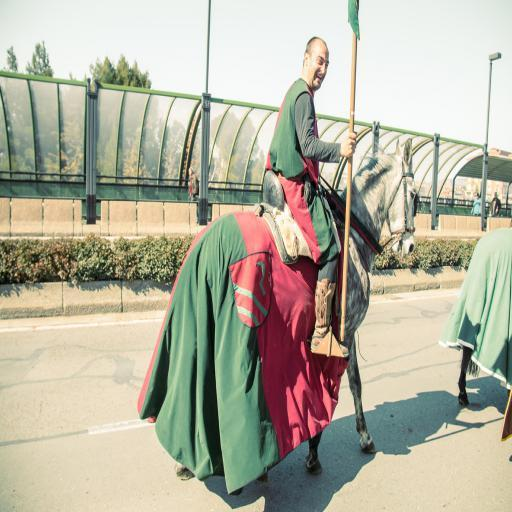horse: (138, 137, 416, 497), (435, 226, 511, 409)
